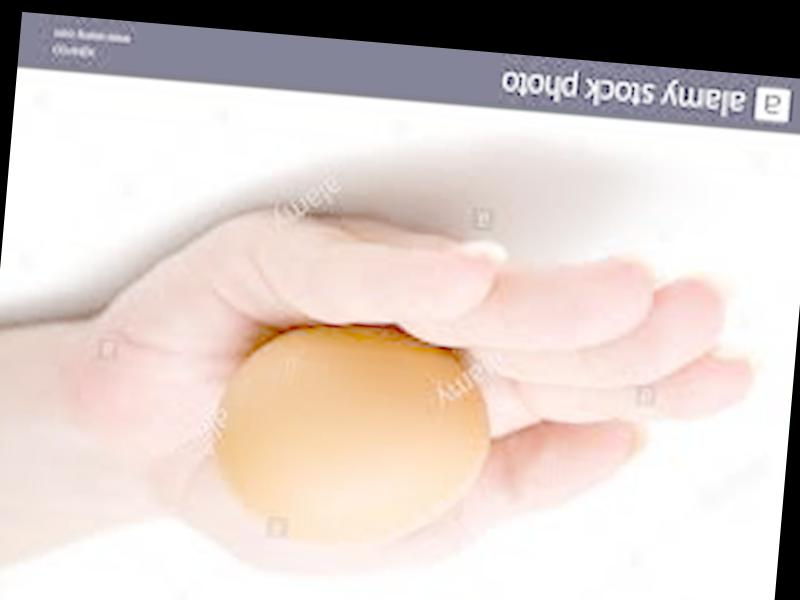Eggs: (203, 317, 496, 561)
